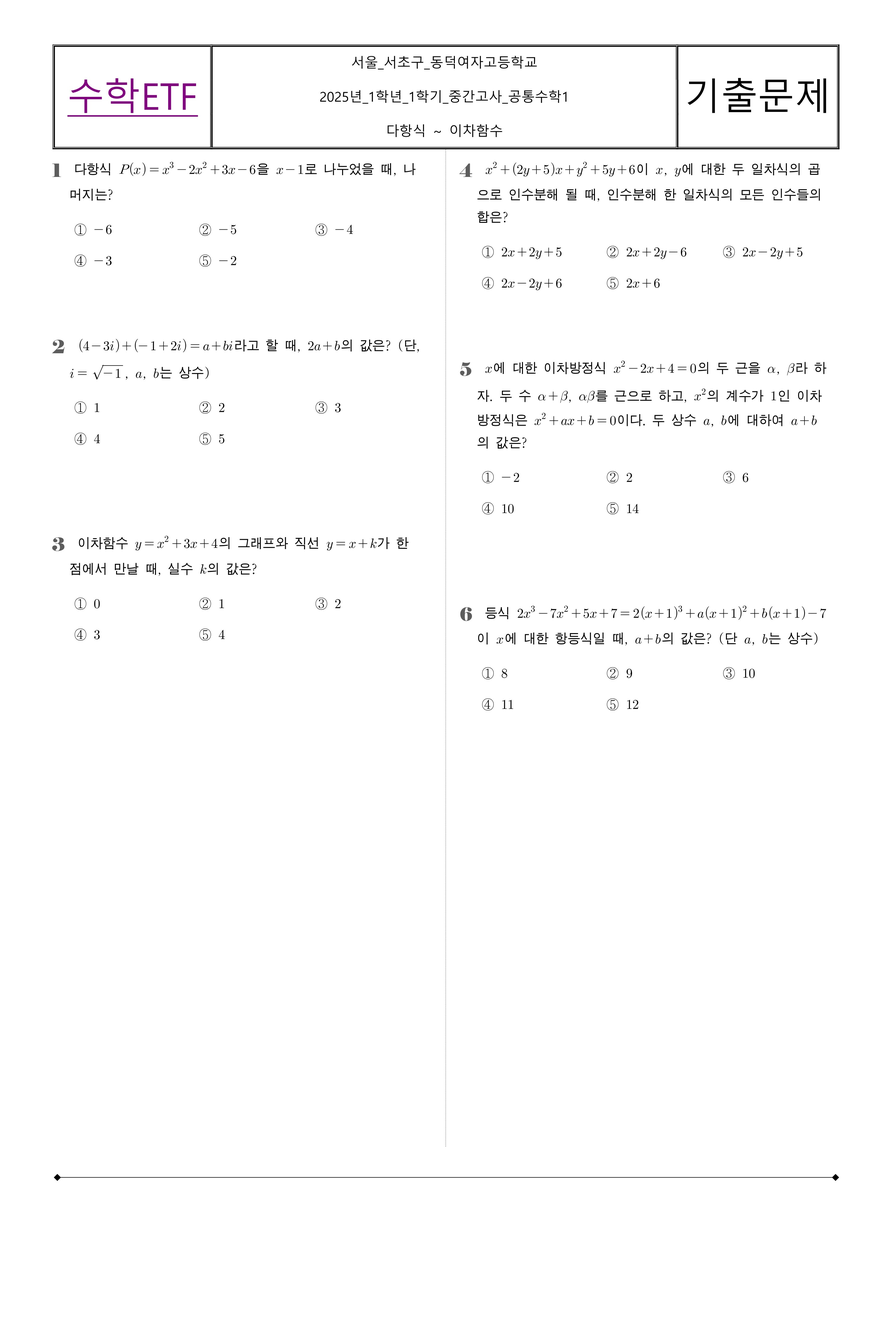problem: (452, 353, 840, 521), (450, 156, 835, 303), (40, 328, 428, 466), (47, 521, 417, 659), (42, 154, 436, 282), (453, 595, 846, 719)
